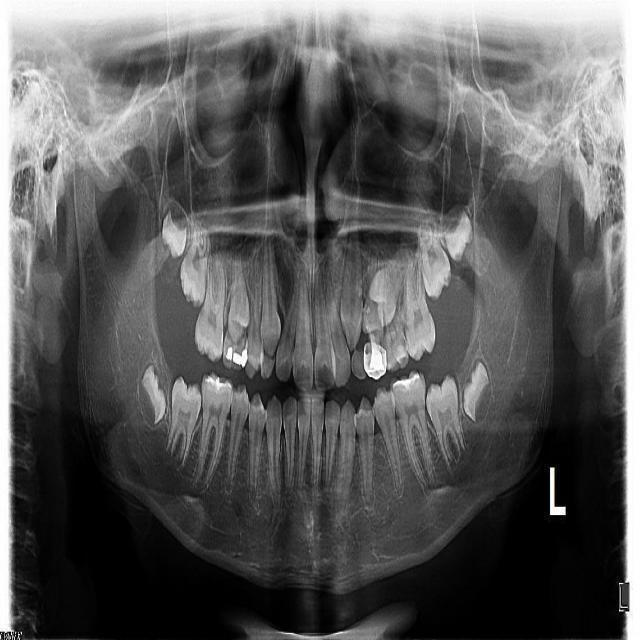Crown: (363, 343, 387, 379)
Filling: (393, 372, 418, 392), (206, 376, 231, 390), (233, 348, 247, 367), (226, 347, 232, 359)
